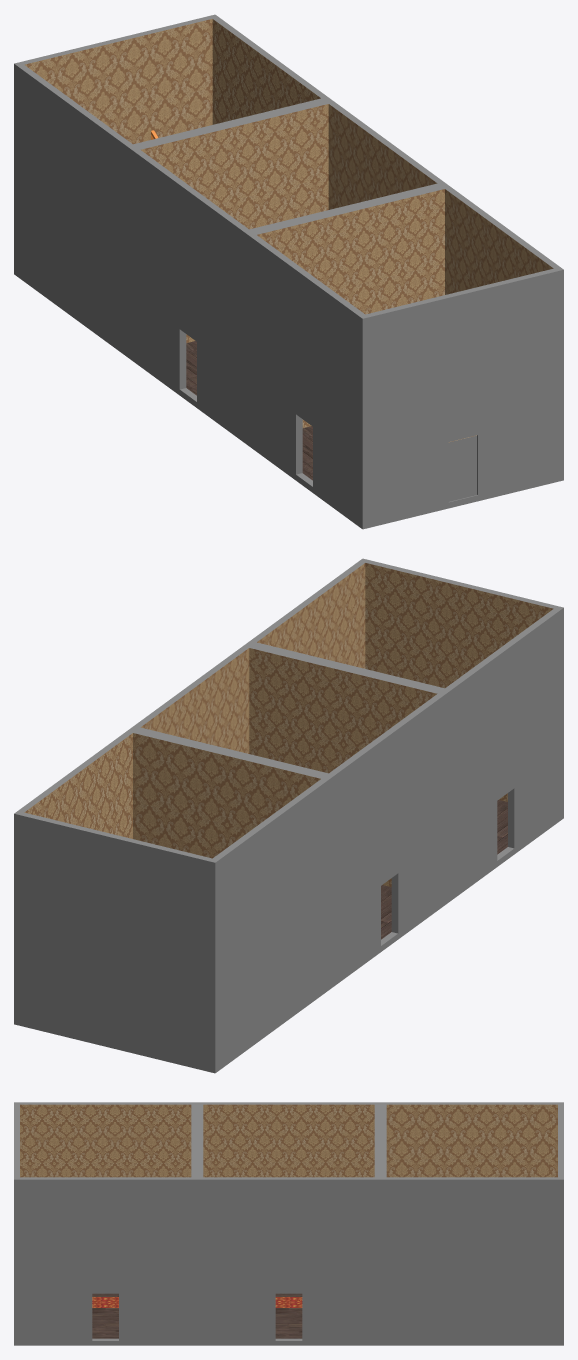
The model's file is Entrance_Hall.FBX.
3 views of the same model, one above another, from view 1: azimuth 30°, elevation 25°; view 2: azimuth 150°, elevation 25°; view 3: azimuth 270°, elevation 25° (orthographic). The views are drawn at different scales.
Visible parts, largest first — view 1: Entrance_Hall; view 2: Entrance_Hall; view 3: Entrance_Hall.
Boxes of the visible parts, <box> form: Entrance_Hall: <box>14,14,563,529</box>; Entrance_Hall: <box>14,558,563,1073</box>; Entrance_Hall: <box>14,1102,563,1345</box>.
Bounding box in the file's own units: 500 × 500 × 1500.
